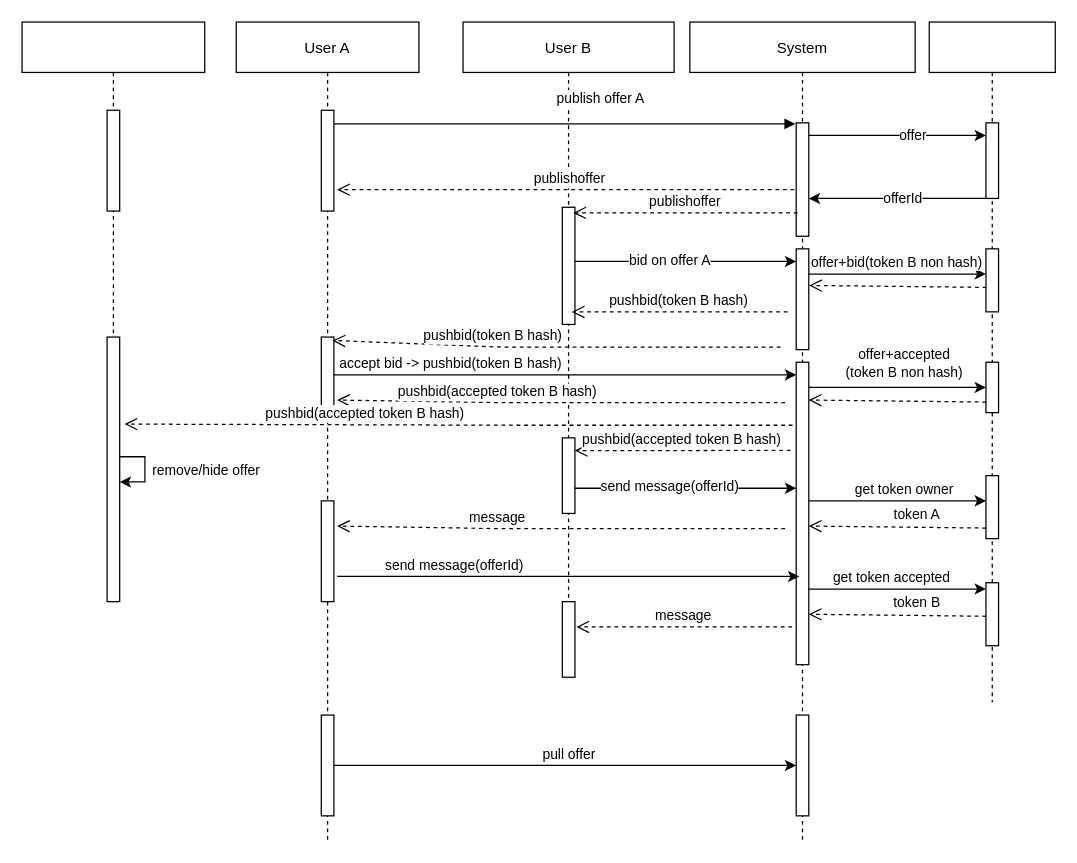
The diagram is 1077 pixels wide and 863 high, and some of its shapes have lost their labels. Here are the shapes that lost their labels. From the top down, the centre of each, then its label:
At point 113,311: "Other users".
At point 991,361: "DB".
